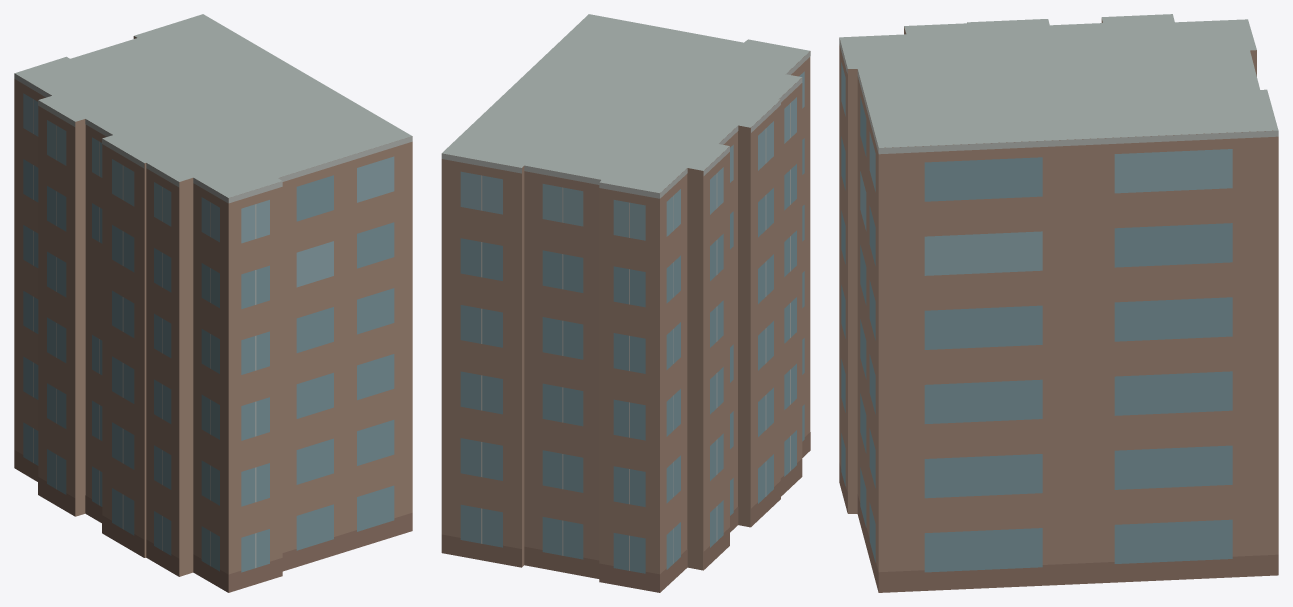
Rendered from survey-upis-32702822.glb.
3 renders of one model, left to right at view 1: azimuth 30°, elevation 25°; view 2: azimuth 150°, elevation 25°; view 3: azimuth 270°, elevation 25°, orthographic. The views are drawn at different scales.
Parts seen in each view (by area): view 1: survey-upis-32702822.tmp; view 2: survey-upis-32702822.tmp; view 3: survey-upis-32702822.tmp.
Boxes of the visible parts, <box> form: survey-upis-32702822.tmp: <box>14,14,412,592</box>; survey-upis-32702822.tmp: <box>441,14,810,592</box>; survey-upis-32702822.tmp: <box>839,14,1278,592</box>.
Size of the model in its own units: 11.32 by 17.5 by 15.67.
